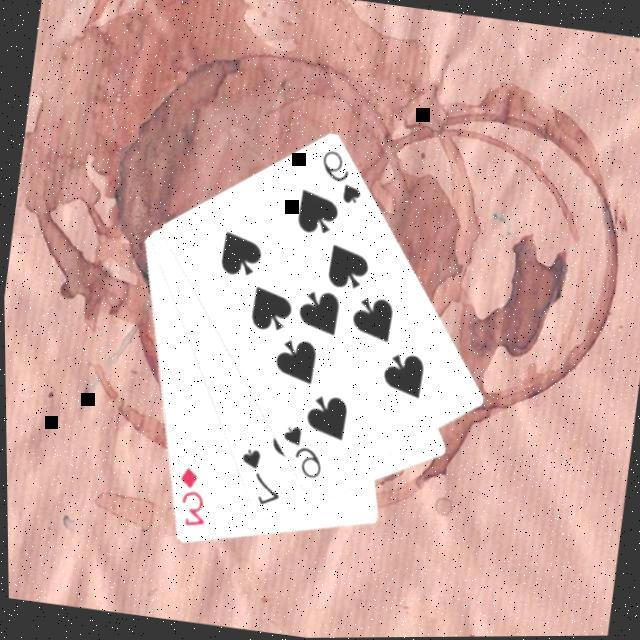3D: (168, 462, 214, 530)
7S: (230, 442, 287, 510)
9S: (312, 144, 368, 208), (272, 420, 329, 482)
